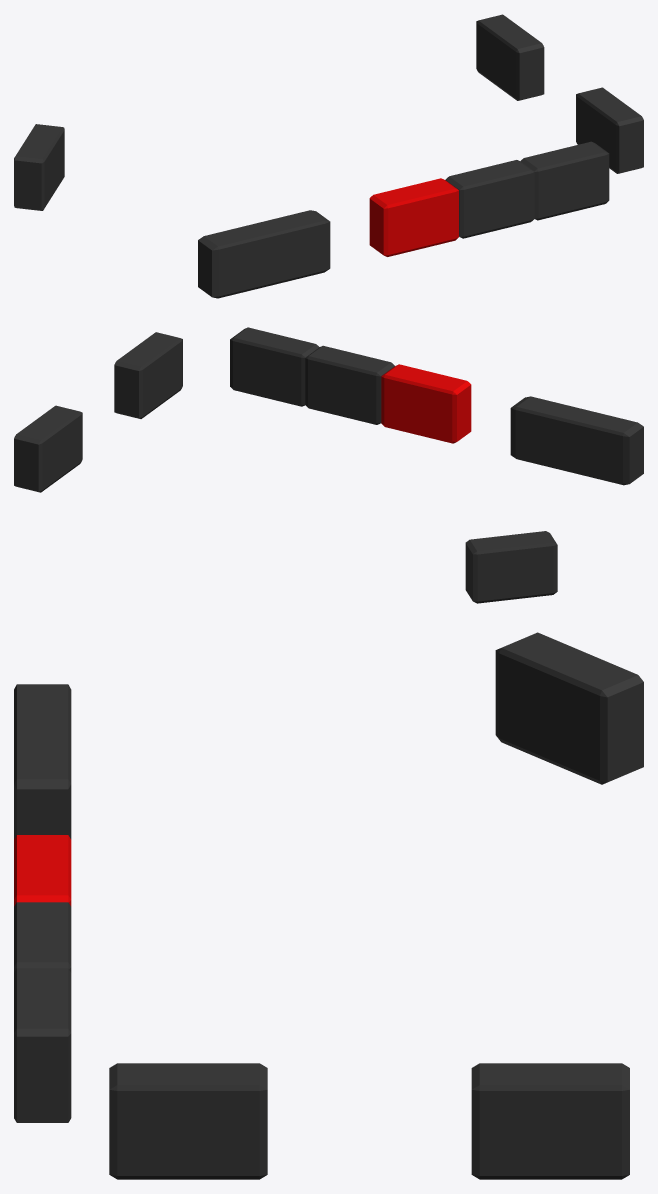
File: tnk_wall_level_test.fbx
3 renders of one model, top to bottom at view 1: azimuth 30°, elevation 25°; view 2: azimuth 150°, elevation 25°; view 3: azimuth 270°, elevation 25°, orthographic. The views are drawn at different scales.
Visible parts, largest first — view 1: wall_level; view 2: wall_level; view 3: wall_level.
Boxes of the visible parts, x1,y1,x2,y2 form: wall_level: [14, 14, 643, 298]; wall_level: [14, 327, 643, 603]; wall_level: [14, 632, 643, 1179].
Bounding box in the file's own units: 170 × 16.45 × 99.41.
